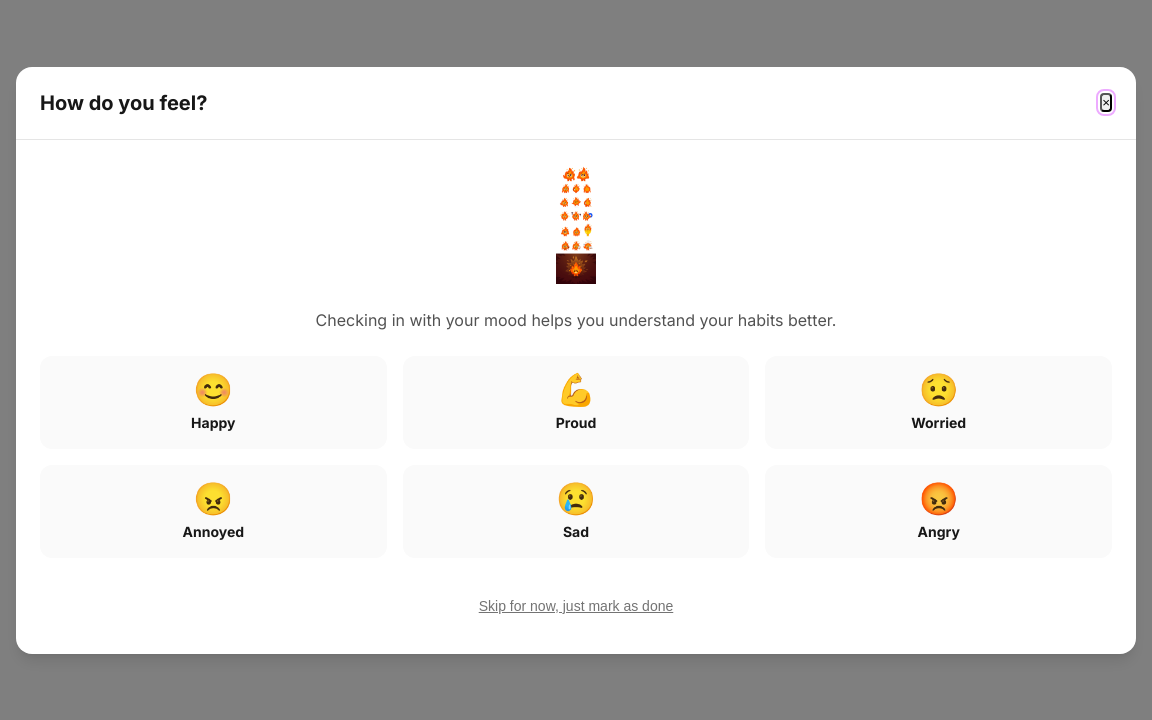
Test case: MoodCheckinModal › should allow skipping reflection and activities
Click the text "Sad" at [576, 531], box [563, 522, 589, 540]
Wait 400 ms
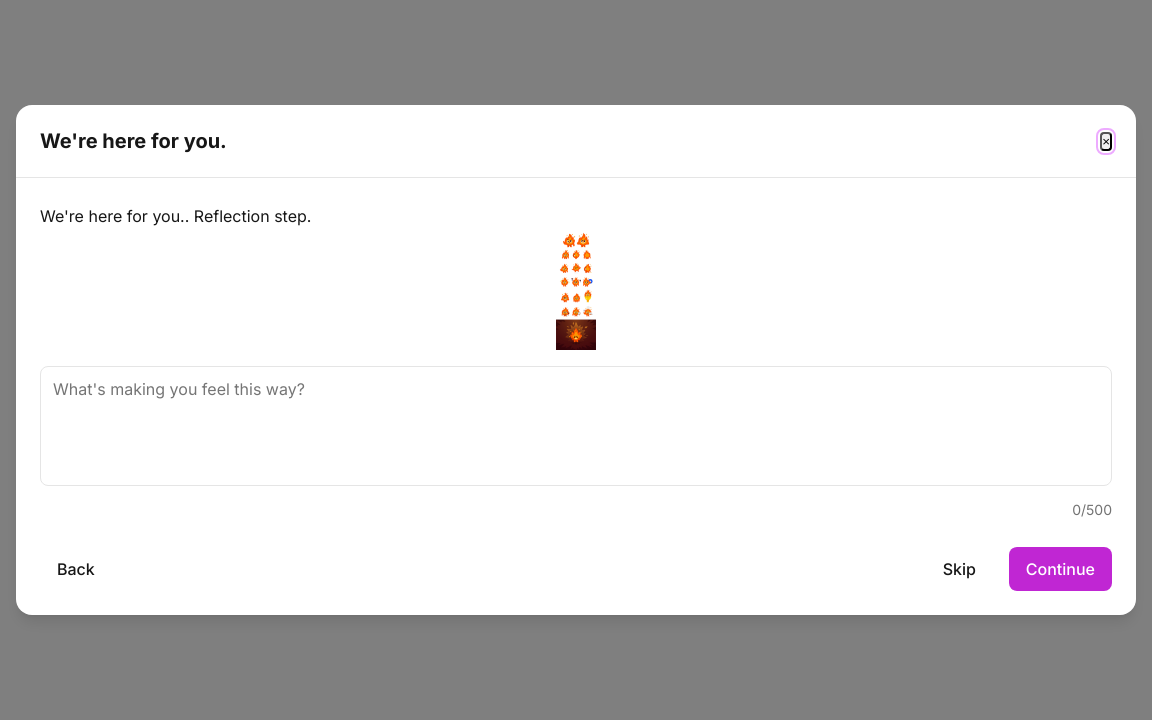
// Skip Reflection
Click the button "Skip" at [959, 569], box [926, 547, 993, 591]
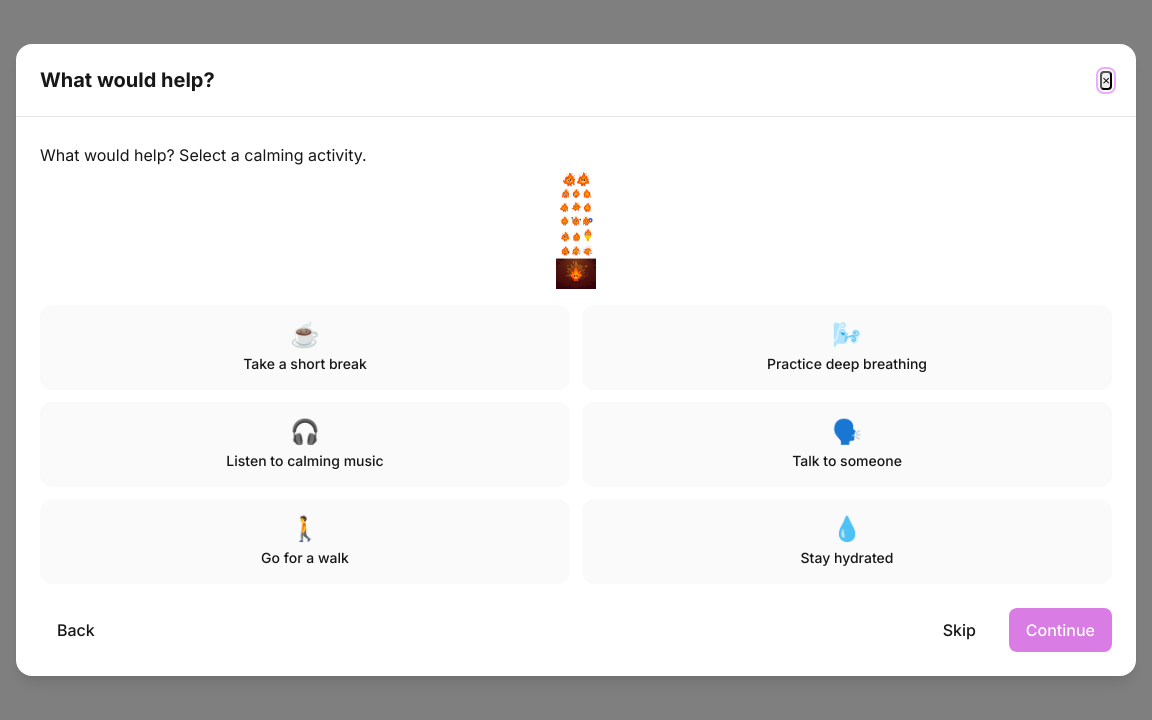
Now the heading "What would help?" is shown, box [40, 68, 215, 92]
// Skip Activity
Click the button "Skip" at [959, 630], box [926, 608, 993, 652]
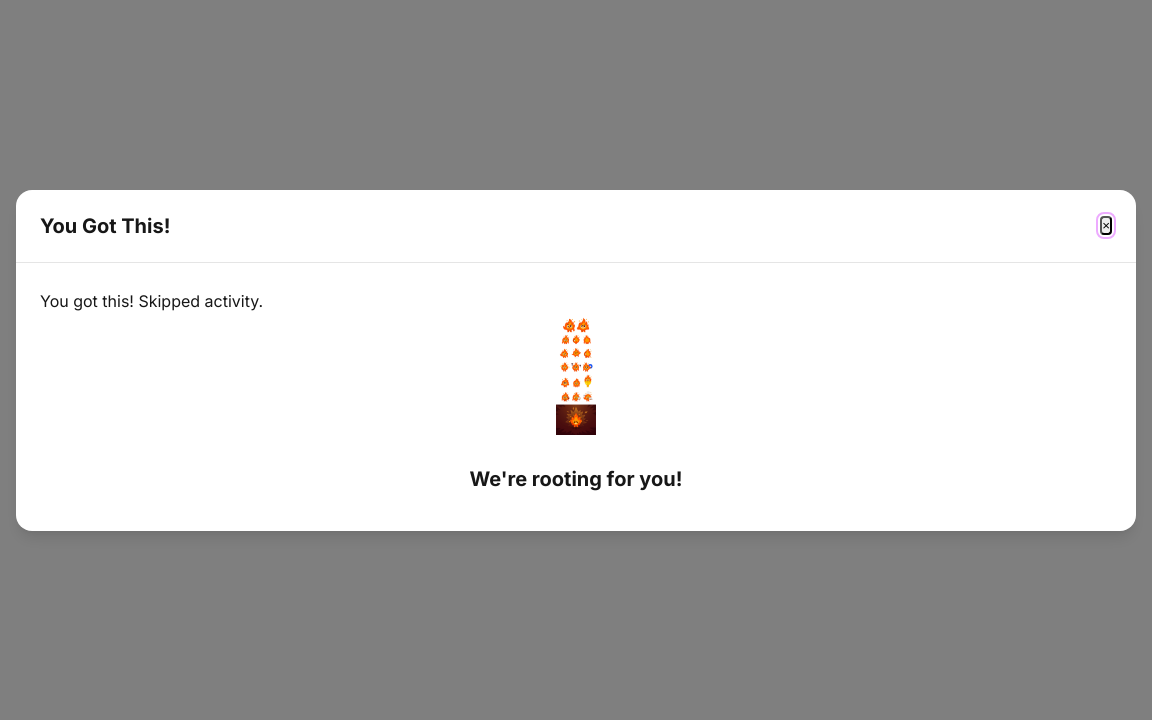
Now the heading "You Got This!" is shown, box [40, 214, 170, 238]
